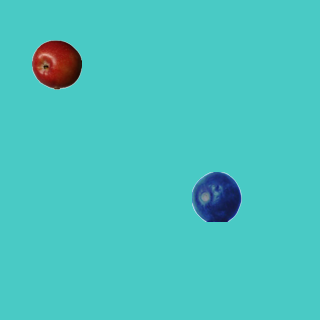Apple Braeburn: (31, 39, 81, 89)
Huckleberry: (191, 171, 241, 221)
